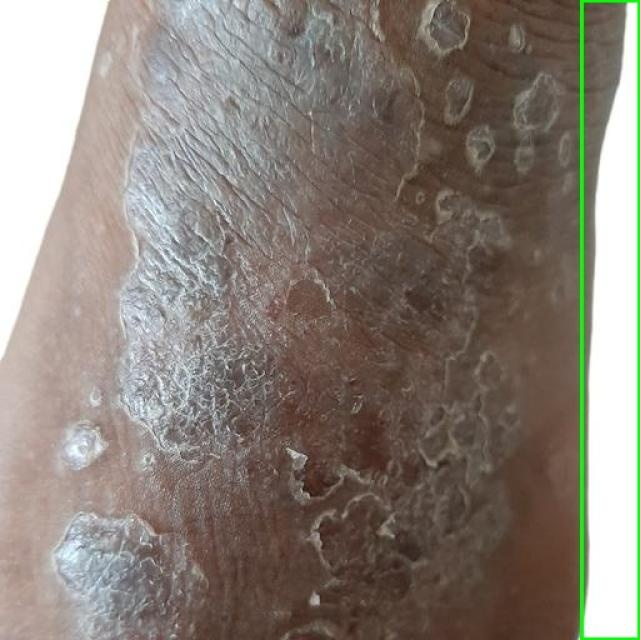Contact Dermatitis: (581, 0, 639, 639)
